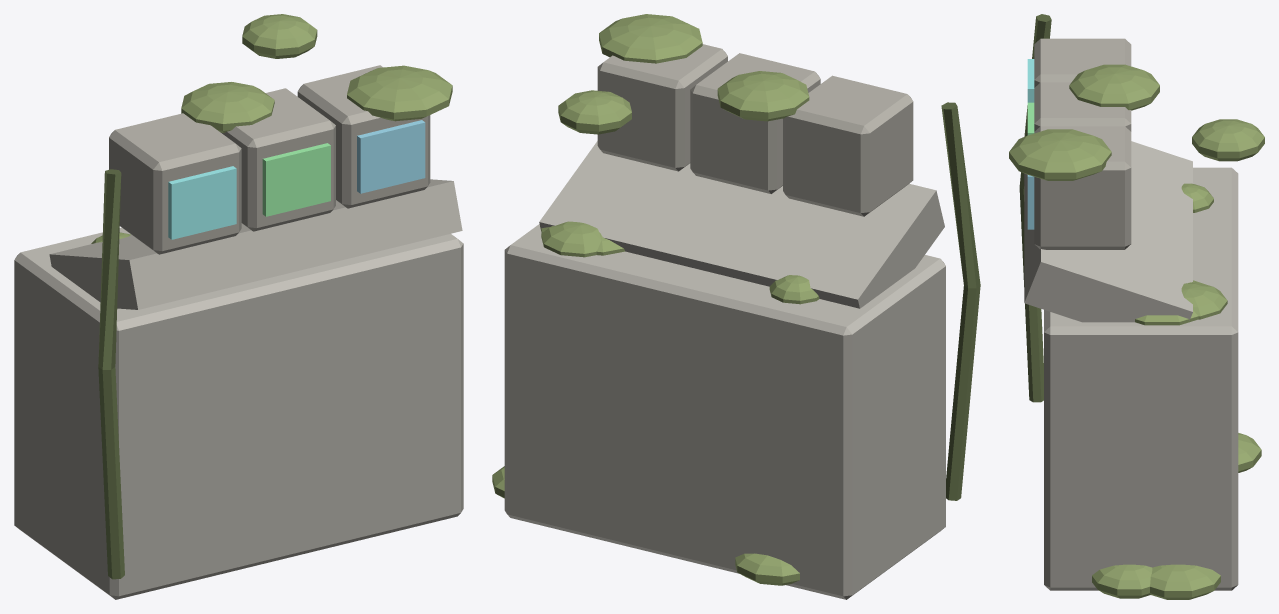
Rendered from OvergrownTerminal.fbx.
The picture shows the model from 3 angles, left to right: view 1: azimuth 30°, elevation 25°; view 2: azimuth 150°, elevation 25°; view 3: azimuth 270°, elevation 25°; orthographic projection. The views are drawn at different scales.
Parts seen in each view (by area): view 1: Prop_OvergrownTerminal; view 2: Prop_OvergrownTerminal; view 3: Prop_OvergrownTerminal.
Boxes of the visible parts, <box> form: Prop_OvergrownTerminal: <box>14,14,463,599</box>; Prop_OvergrownTerminal: <box>492,14,980,599</box>; Prop_OvergrownTerminal: <box>1009,14,1264,599</box>.
Size of the model in its own units: 1.39 by 1.45 by 0.7899.
